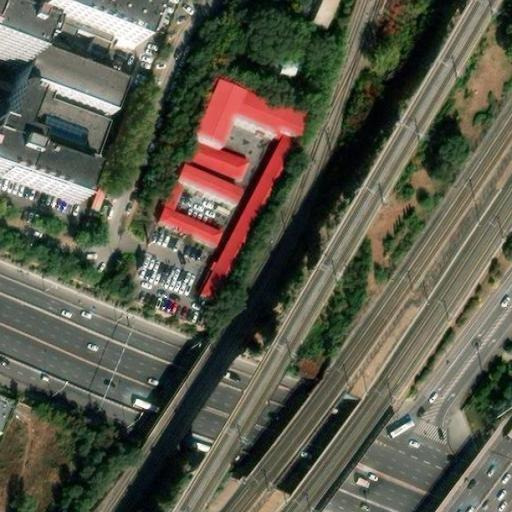building: (194, 139, 297, 306), (184, 89, 306, 187), (19, 83, 111, 175), (35, 0, 145, 48), (154, 166, 238, 213), (147, 207, 217, 251), (274, 51, 302, 75), (0, 391, 15, 431)
